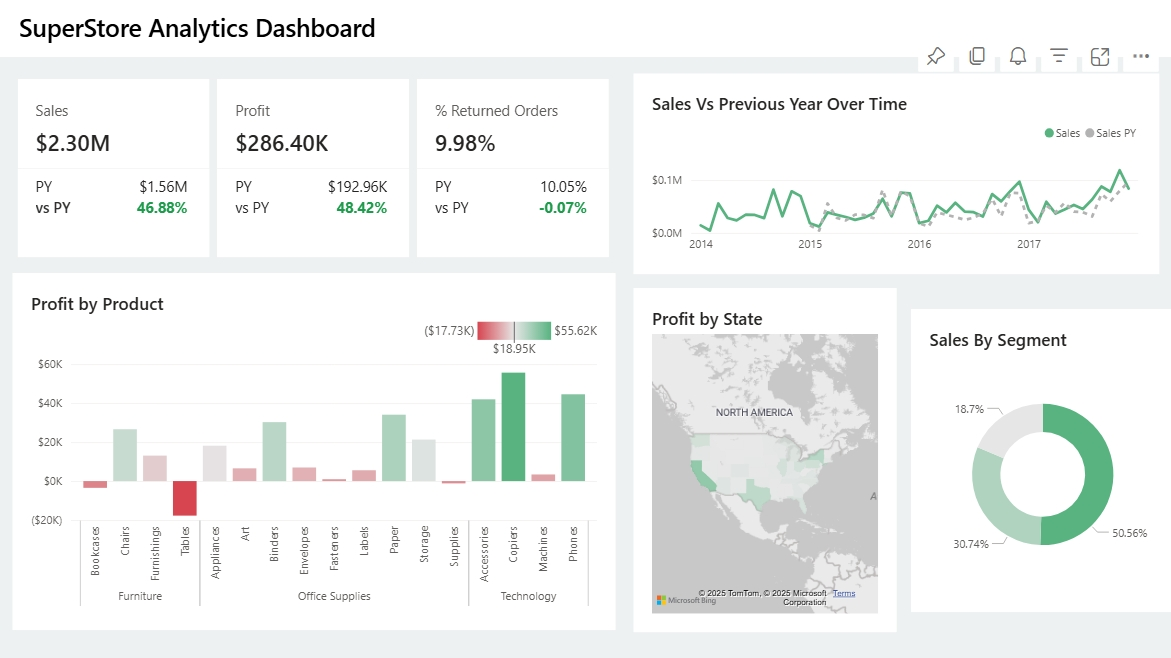

Layout of this report page (visuals, bound fields, positions):
{"tool":"powerbi","page":{"name":"Page 1","canvas":[1280,720],"ordinal":0},"visuals":[{"type":"cardVisual","fields":{"Data":["Key Measures.Sales","Key Measures.Profit","Key Measures.% Returned Orders"]},"box":[17.5,82.7,655.3,205.2],"z":0},{"type":"shape","box":[0,0,1280.4,65.2],"z":1000},{"type":"lineChart","title":"Sales  Vs Previous Year Over Time","fields":{"Y":["Key Measures.Sales","Key Measures.Sales PY"],"Category":["Date Table.Start of month"]},"box":[693.5,82.7,571,217.9],"z":2000},{"type":"clusteredColumnChart","title":"Profit by Product","fields":{"Category":["SuperstoreSalesData.Category","SuperstoreSalesData.Sub-Category"],"Y":["Key Measures.Profit"]},"box":[17.5,300.6,655.3,388.1],"z":3000},{"type":"filledMap","title":"Profit by State","fields":{"Category":["SuperstoreSalesData.State"]},"box":[693.5,316.5,286.3,373.8],"z":4000},{"type":"donutChart","title":"Sales By Segment","fields":{"Category":["SuperstoreSalesData.Segment"],"Y":["Key Measures.Sales"]},"box":[994.1,338.8,286.3,329.3],"z":5000}]}

Visuals, with their boxes on the page's 1280x720 design canvas (x1, y1, x2, y2). These are canvas units, not pixel positions in the 1171x658 screenshot, which may show the page scaled, cropped or inside an application window:
cardVisual - Key Measures.Sales x Key Measures.Profit: rect(18, 83, 673, 288)
shape: rect(0, 0, 1280, 65)
"Sales  Vs Previous Year Over Time" lineChart: rect(694, 83, 1264, 301)
"Profit by Product" clusteredColumnChart: rect(18, 301, 673, 689)
"Profit by State" filledMap: rect(694, 316, 980, 690)
"Sales By Segment" donutChart: rect(994, 339, 1280, 668)
